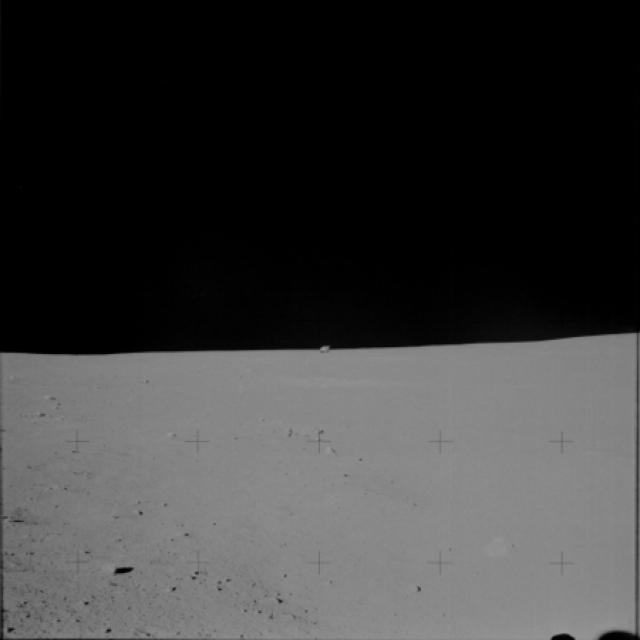crater: (0, 492, 116, 533)
rock: (482, 526, 522, 569), (98, 562, 132, 583), (318, 438, 346, 459)
